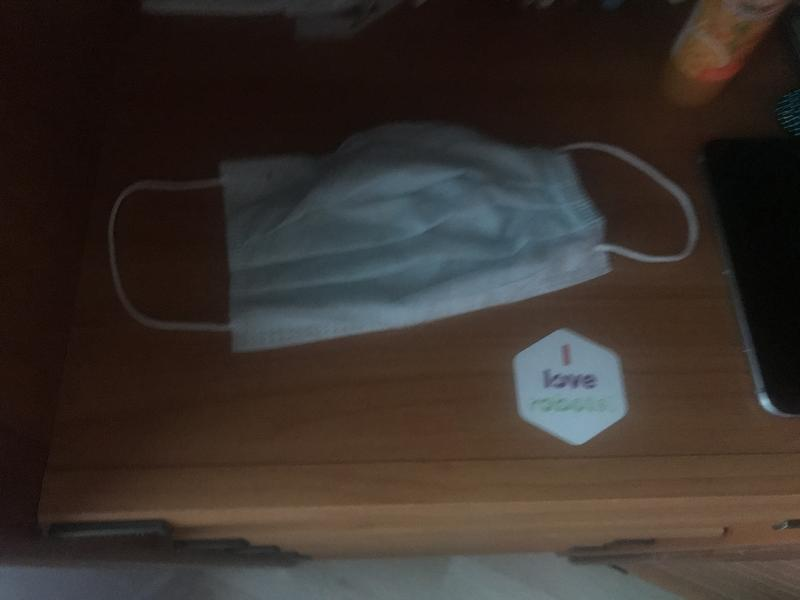medical_mask: (106, 122, 697, 332)
